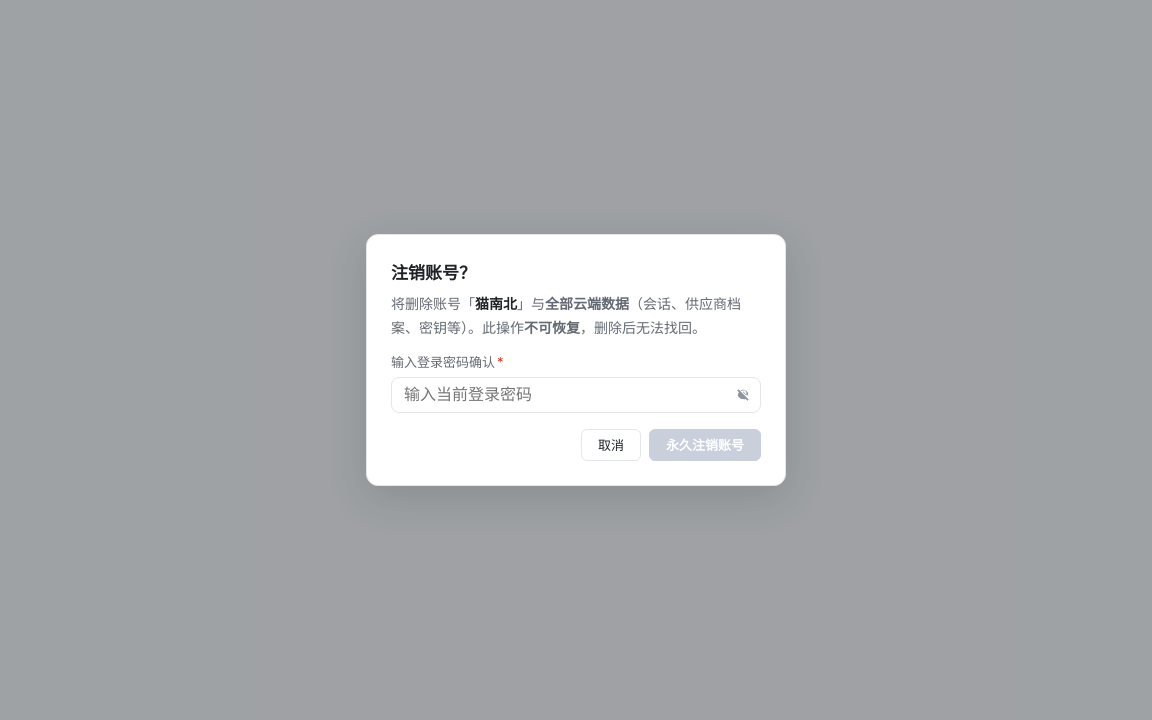
Scenario: 注销强确认模态 › 密码为空：永久注销账号 disabled；有输入才可点
expect the button with class "btn-danger" is disabled: met, box [649, 429, 761, 461]
Type "mm2026" into the password field labelled "输入登录密码确认*". click: (576, 395)
box: [391, 377, 761, 413]
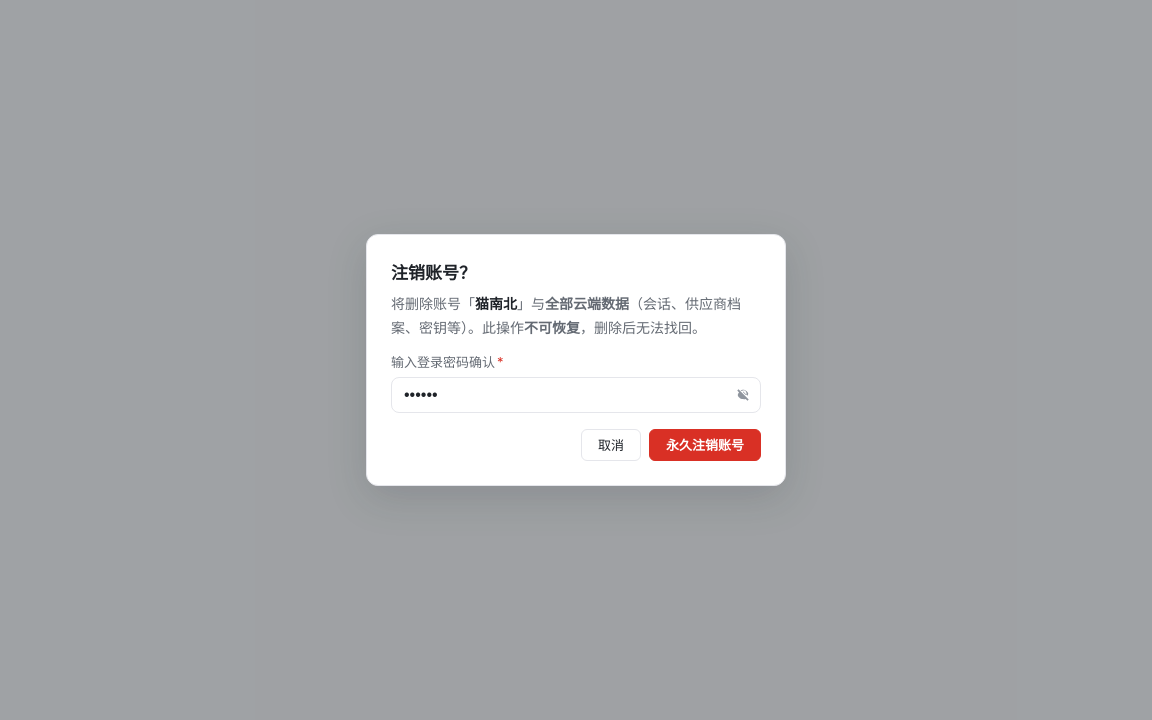
expect the button with class "btn-danger" is enabled: met, box [649, 429, 761, 461]
